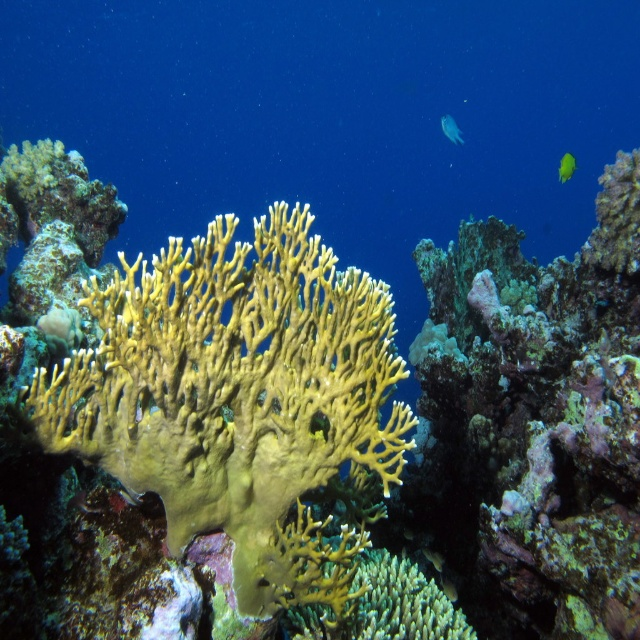Fish: (441, 115, 470, 147)
